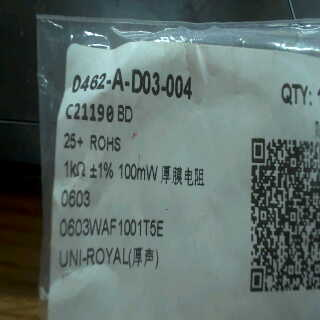1kR: (62, 157, 89, 181)
